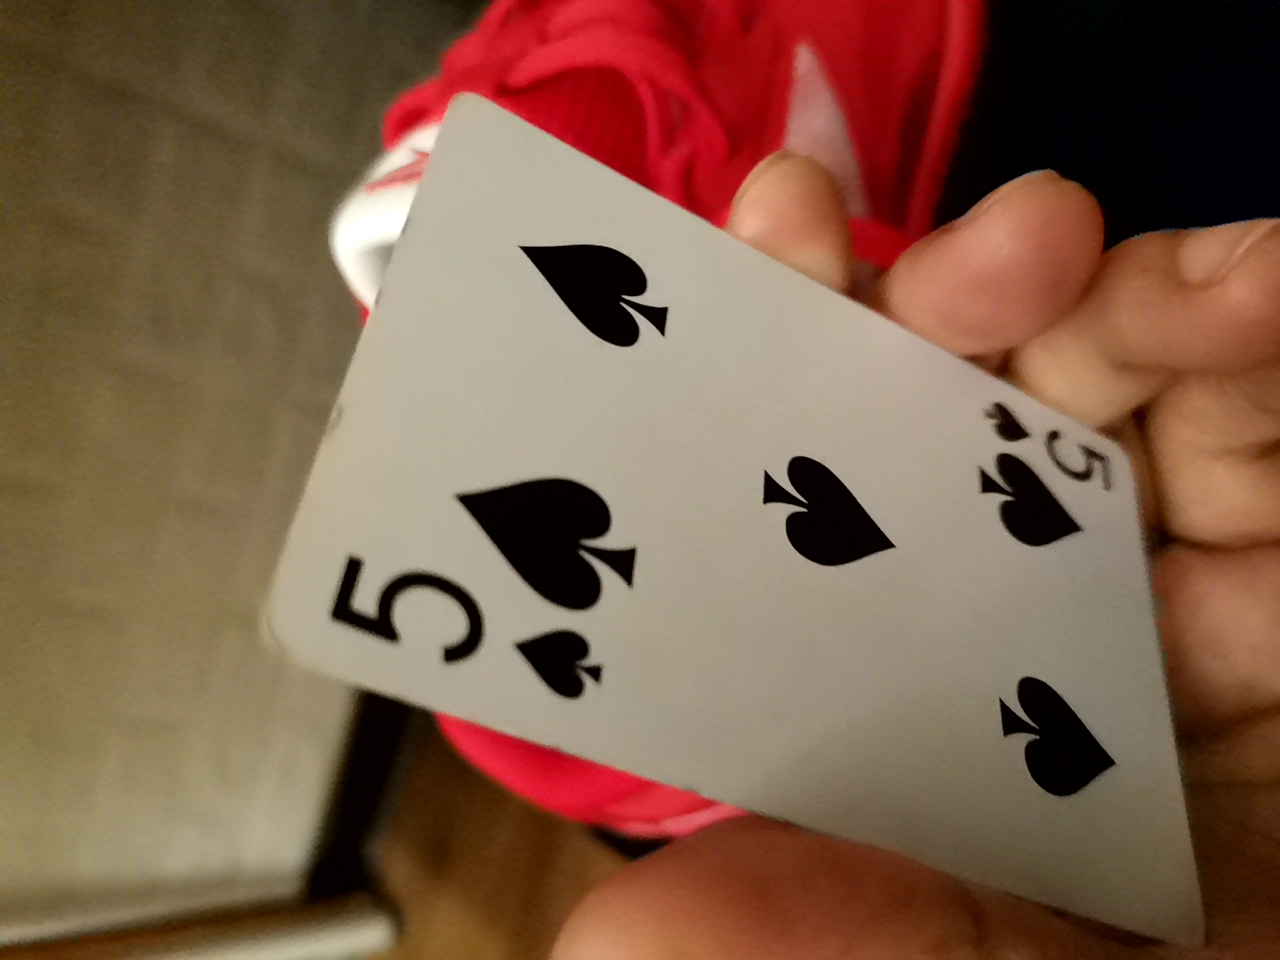ht 5: (253, 114, 1209, 949)
